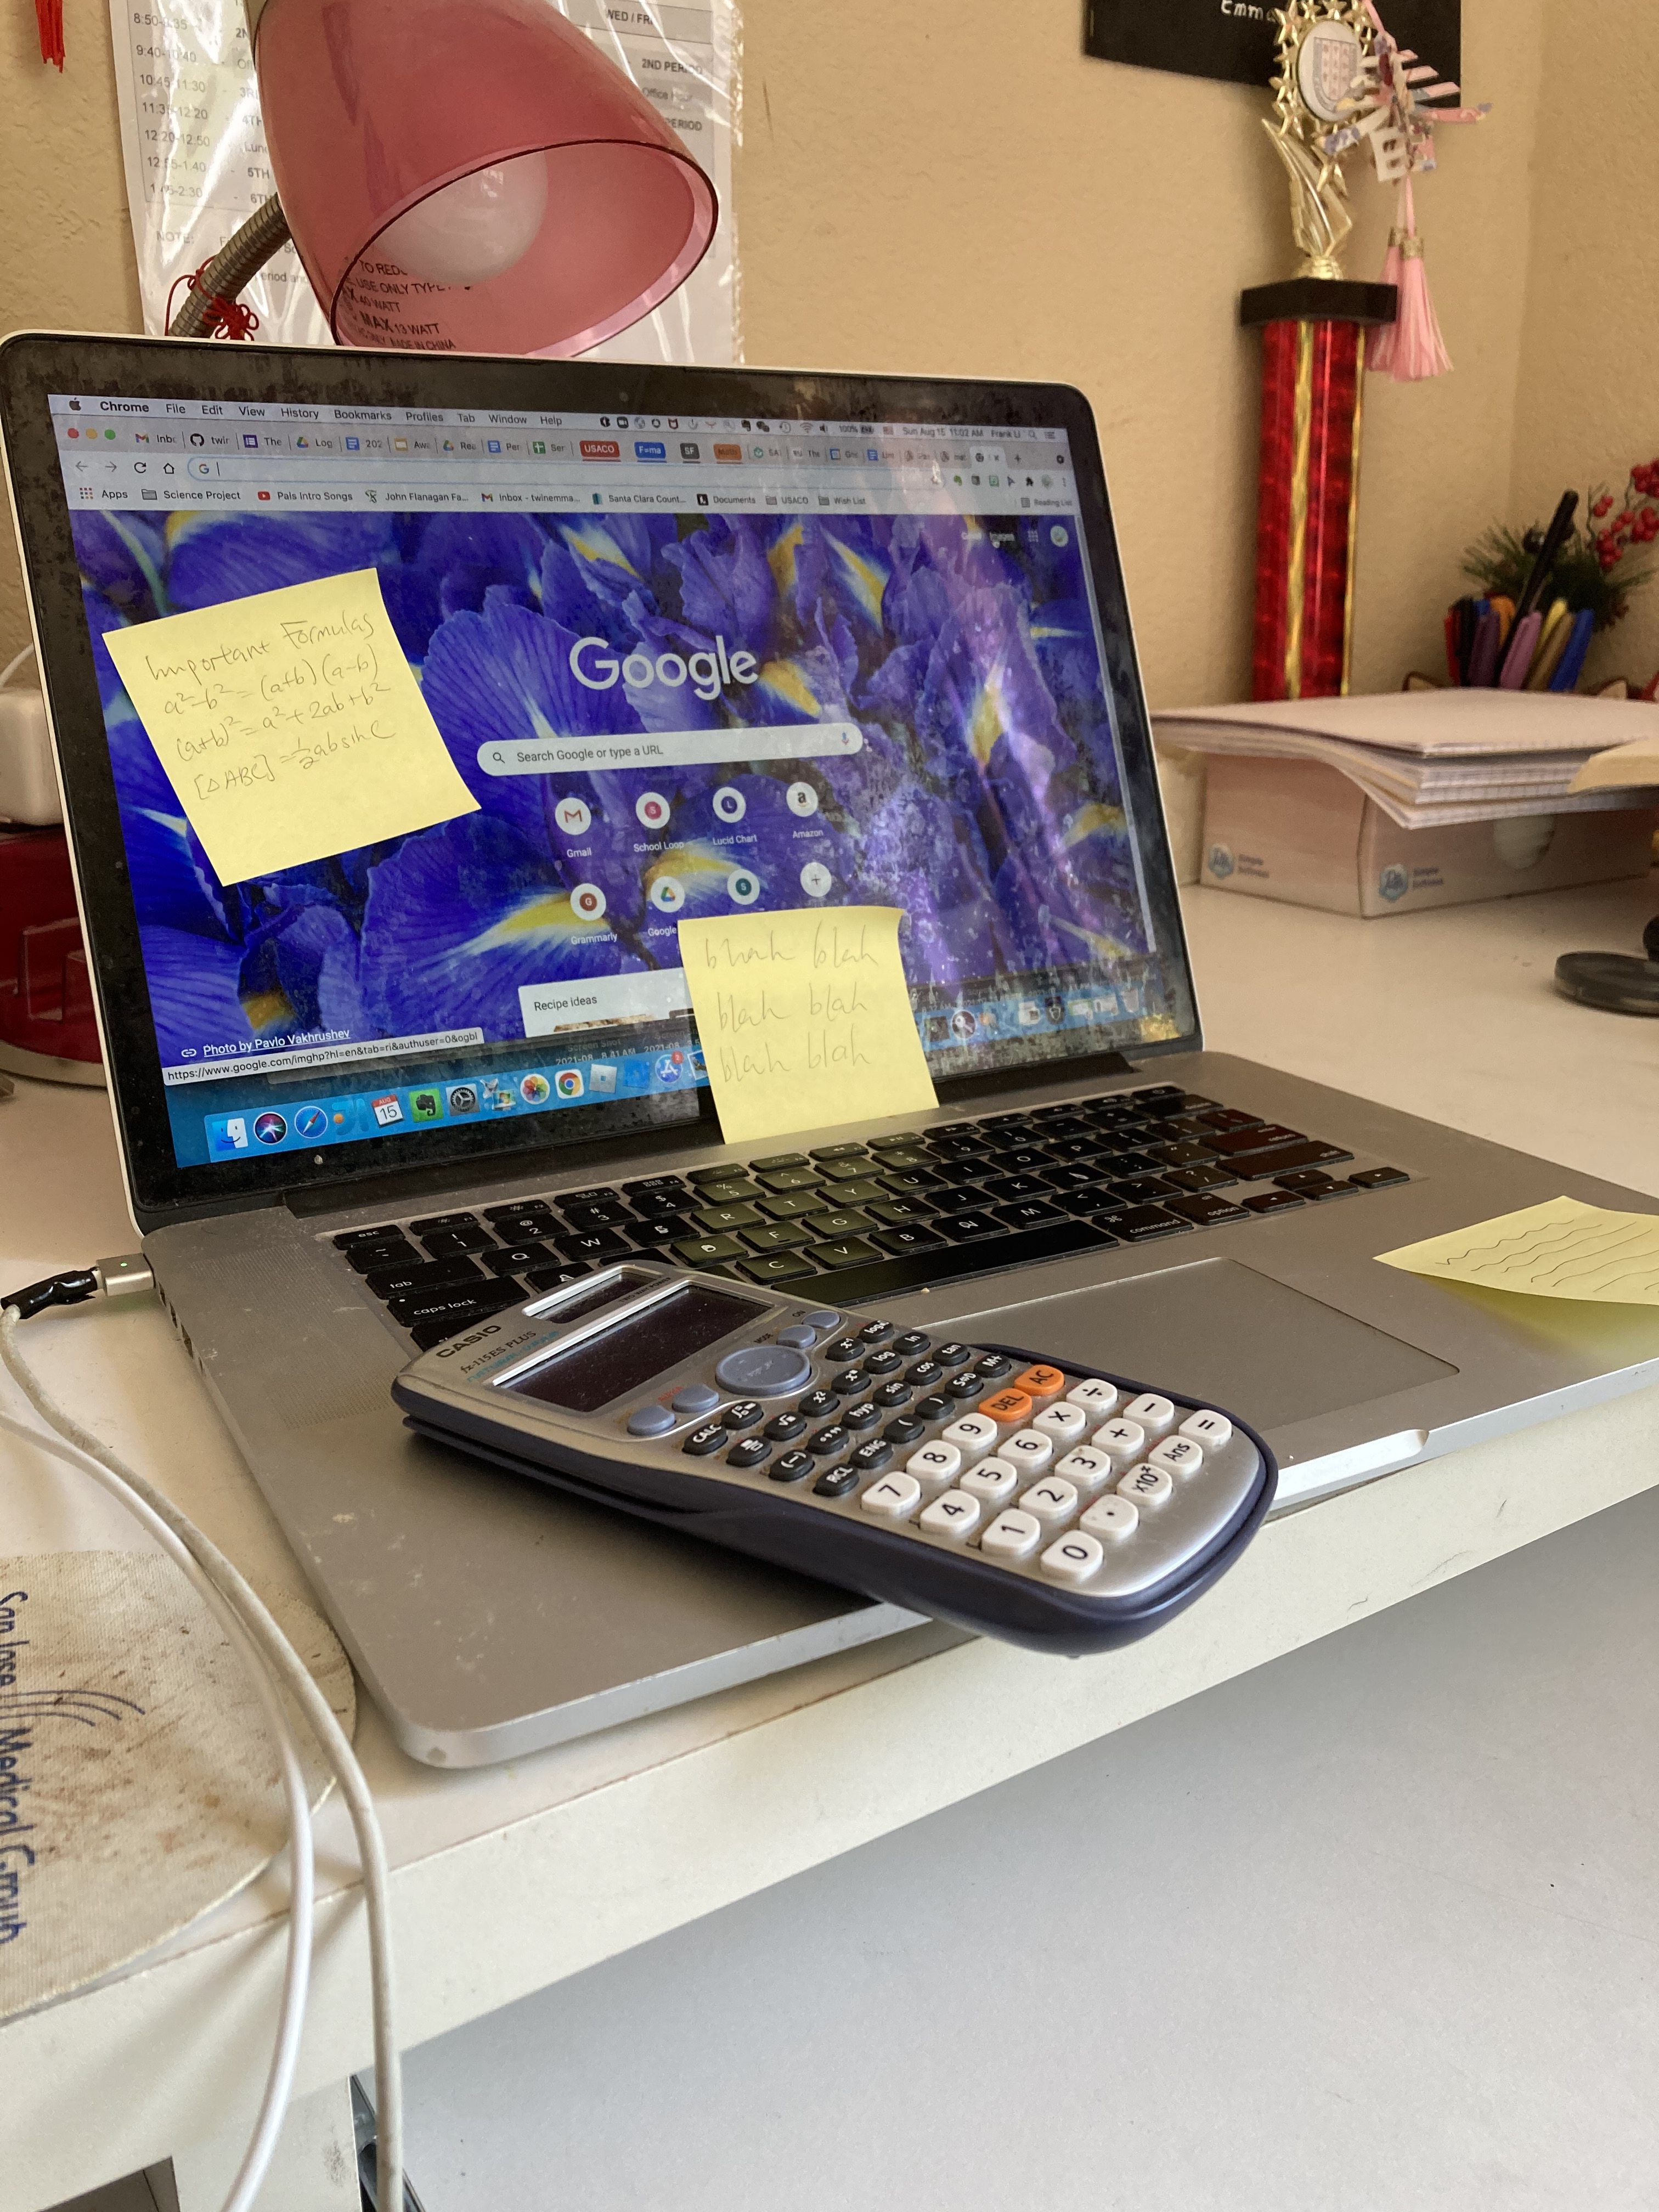Calculator: (396, 1245, 1274, 1648)
Note: (103, 571, 474, 892), (687, 911, 950, 1127), (1380, 1193, 1659, 1318)
